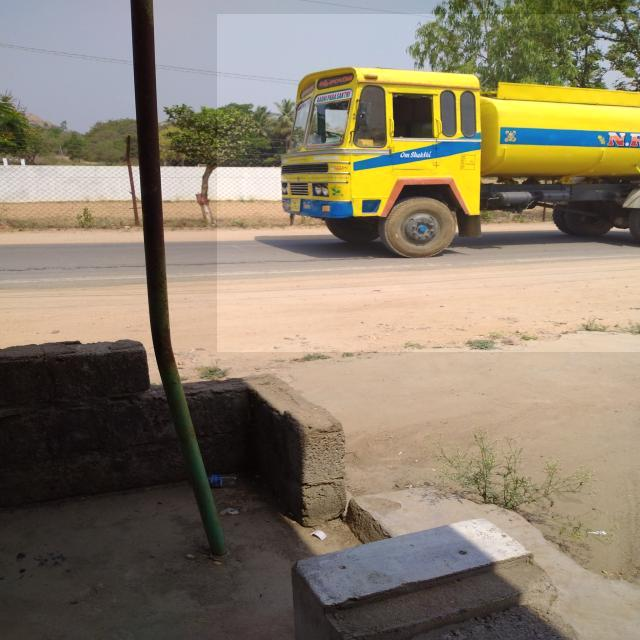Truck: (217, 14, 640, 352)
